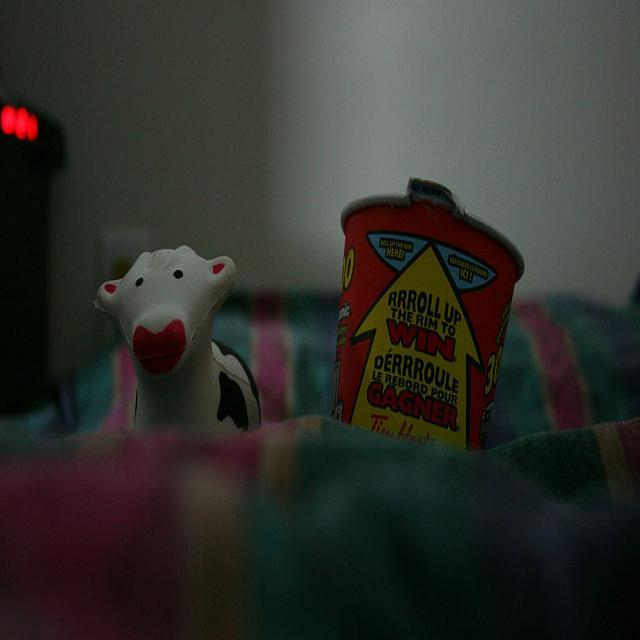cow: (94, 246, 265, 432)
